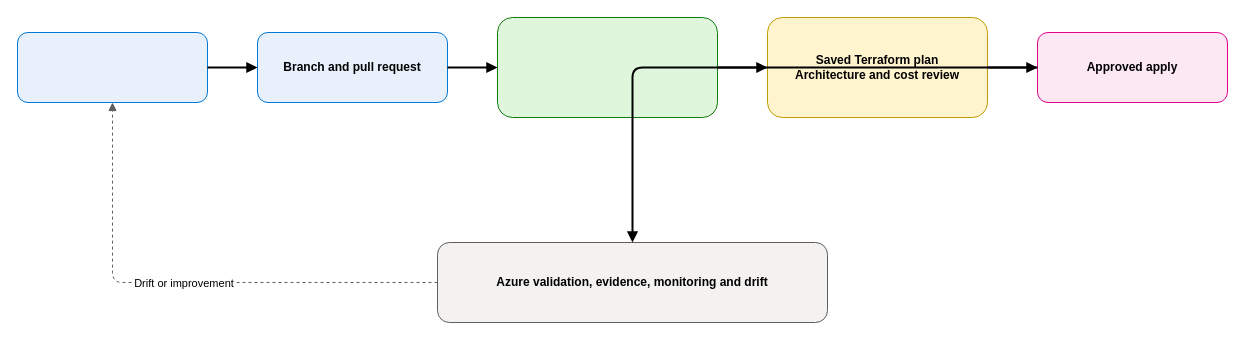
Some shapes in this 1245 by 340 pixel diagram are drawn without their labels. Each missing label, with the centre of its shape:
"CI checks fmt | validate | tests | security" goes at pixel 607 67.
"Requirement and issue" goes at pixel 112 67.
